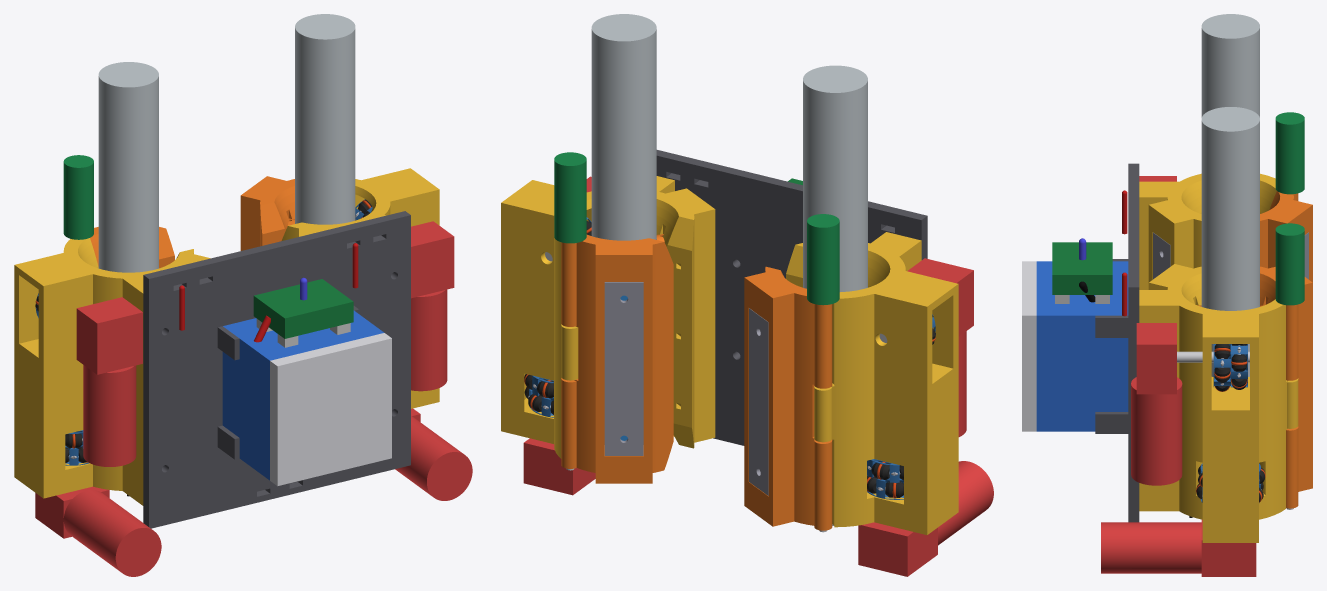
Rendered from cart-base.glb.
3 renders of one model, left to right at view 1: azimuth 30°, elevation 25°; view 2: azimuth 150°, elevation 25°; view 3: azimuth 270°, elevation 25°, orthographic. The views are drawn at different scales.
Visible parts, largest first — view 1: base_plate, hand_on_pipe_B_sleeve, arm_base_footprint, track_pipe_C, track_pipe_B, battery, hand_on_pipe_B_roll_motor, hand_on_pipe_B_drive_motor, hand_on_pipe_C_sleeve, hand_on_pipe_B_drive_gearbox, waveshare_board, hand_on_pipe_C_roll_motor (+9 smaller); view 2: hand_on_pipe_B_sleeve, hand_on_pipe_C_sleeve, hand_on_pipe_C_jaw, base_plate, hand_on_pipe_B_jaw, track_pipe_C, track_pipe_B, hand_on_pipe_C_p60_cap, hand_on_pipe_B_p60_cap, hand_on_pipe_B_roll_gearbox, hand_on_pipe_C_roll_gearbox, hand_on_pipe_B_roll_motor (+8 smaller); view 3: hand_on_pipe_C_sleeve, battery, track_pipe_C, hand_on_pipe_B_sleeve, track_pipe_B, hand_on_pipe_C_jaw, hand_on_pipe_C_roll_motor, hand_on_pipe_C_drive_motor, base_plate, waveshare_board, hand_on_pipe_C_drive_gearbox, arm_base_footprint (+11 smaller).
Part boxes in pixels (box(x1,y1,x2,y2)): base_plate: box(143, 211, 410, 528); hand_on_pipe_B_sleeve: box(14, 238, 210, 505); arm_base_footprint: box(270, 333, 391, 486); track_pipe_C: box(295, 14, 355, 224); track_pipe_B: box(98, 62, 158, 272); battery: box(222, 310, 384, 480); hand_on_pipe_B_roll_motor: box(63, 489, 161, 576); hand_on_pipe_B_drive_motor: box(83, 365, 136, 466); hand_on_pipe_C_sleeve: box(281, 168, 439, 408); hand_on_pipe_B_drive_gearbox: box(76, 297, 142, 374); waveshare_board: box(253, 279, 353, 338); hand_on_pipe_C_roll_motor: box(395, 416, 472, 500); hand_on_pipe_B_sleeve: box(786, 232, 958, 534); hand_on_pipe_C_sleeve: box(501, 176, 715, 458); hand_on_pipe_C_jaw: box(561, 234, 673, 483); base_plate: box(656, 150, 927, 445); hand_on_pipe_B_jaw: box(744, 266, 832, 530); track_pipe_C: box(591, 14, 656, 240); track_pipe_B: box(803, 65, 867, 525); hand_on_pipe_C_p60_cap: box(604, 282, 643, 455); hand_on_pipe_B_p60_cap: box(749, 308, 768, 495); hand_on_pipe_B_roll_gearbox: box(858, 522, 937, 576); hand_on_pipe_C_roll_gearbox: box(523, 438, 595, 495); hand_on_pipe_B_roll_motor: box(938, 461, 993, 545); hand_on_pipe_C_sleeve: box(1139, 264, 1298, 542); battery: box(1036, 261, 1128, 431); track_pipe_C: box(1201, 107, 1259, 376); hand_on_pipe_B_sleeve: box(1139, 173, 1276, 289); track_pipe_B: box(1201, 14, 1259, 117); hand_on_pipe_C_jaw: box(1260, 266, 1312, 508); hand_on_pipe_C_roll_motor: box(1101, 522, 1201, 573); hand_on_pipe_C_drive_motor: box(1131, 377, 1182, 485); base_plate: box(1128, 163, 1139, 522); waveshare_board: box(1052, 242, 1112, 294); hand_on_pipe_C_drive_gearbox: box(1136, 323, 1176, 394); arm_base_footprint: box(1022, 261, 1036, 431).
Size of the model in its own units: 242 by 256 by 159.
